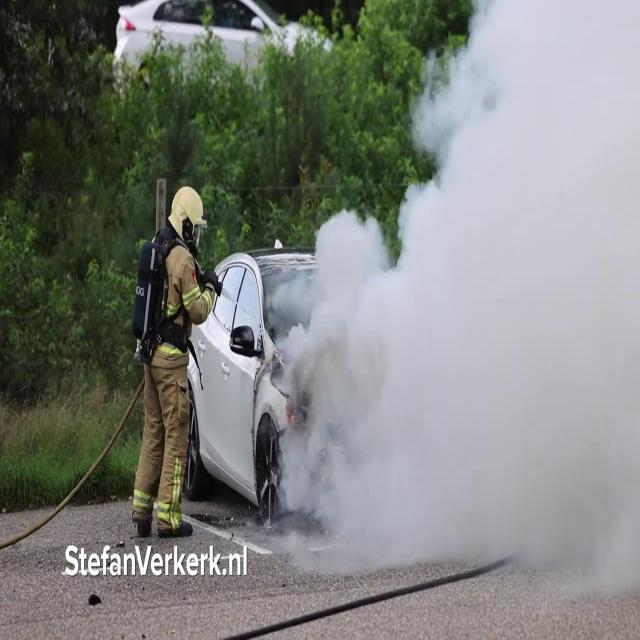Smoke: (276, 1, 640, 604)
